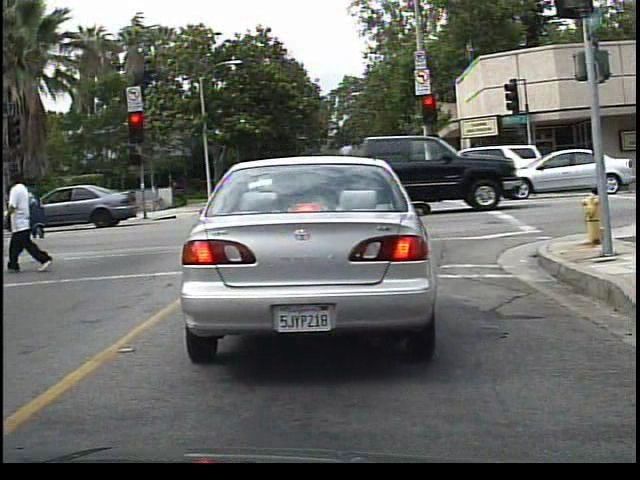person: (5, 165, 56, 275)
